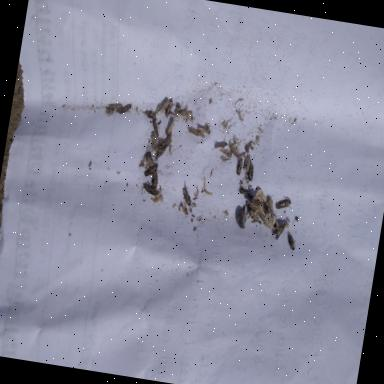pbw: (178, 186, 196, 212), (142, 160, 160, 180), (274, 195, 294, 212), (271, 220, 287, 241), (164, 116, 178, 138), (284, 232, 298, 252), (244, 163, 256, 186), (246, 208, 262, 225), (197, 120, 213, 136), (140, 182, 158, 196), (156, 100, 170, 118), (148, 130, 159, 152), (211, 140, 228, 153), (150, 170, 160, 192), (163, 99, 174, 119), (236, 188, 254, 200), (150, 120, 162, 138), (188, 126, 206, 138), (235, 156, 245, 176), (117, 103, 132, 116), (151, 192, 164, 206), (142, 109, 157, 121), (243, 153, 252, 172), (227, 144, 239, 158), (106, 100, 122, 110)
